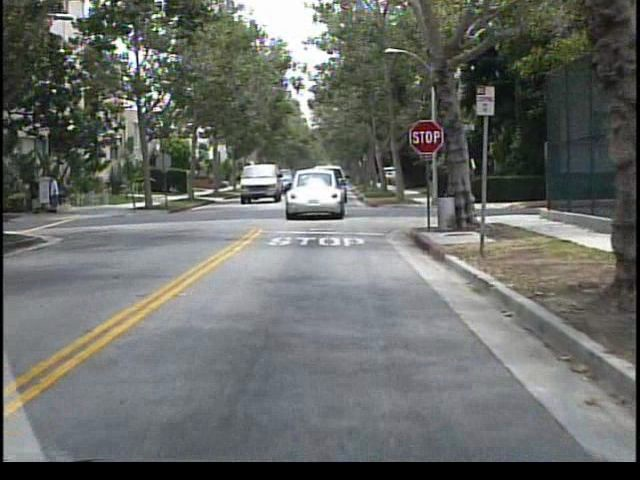person: (50, 169, 64, 215), (33, 173, 46, 217)
